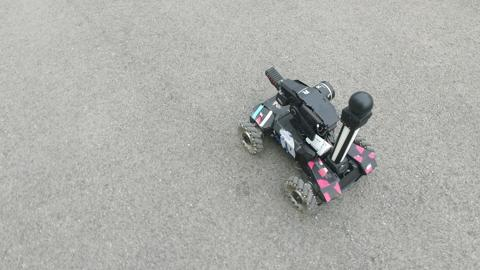chariot: (237, 66, 377, 215)
